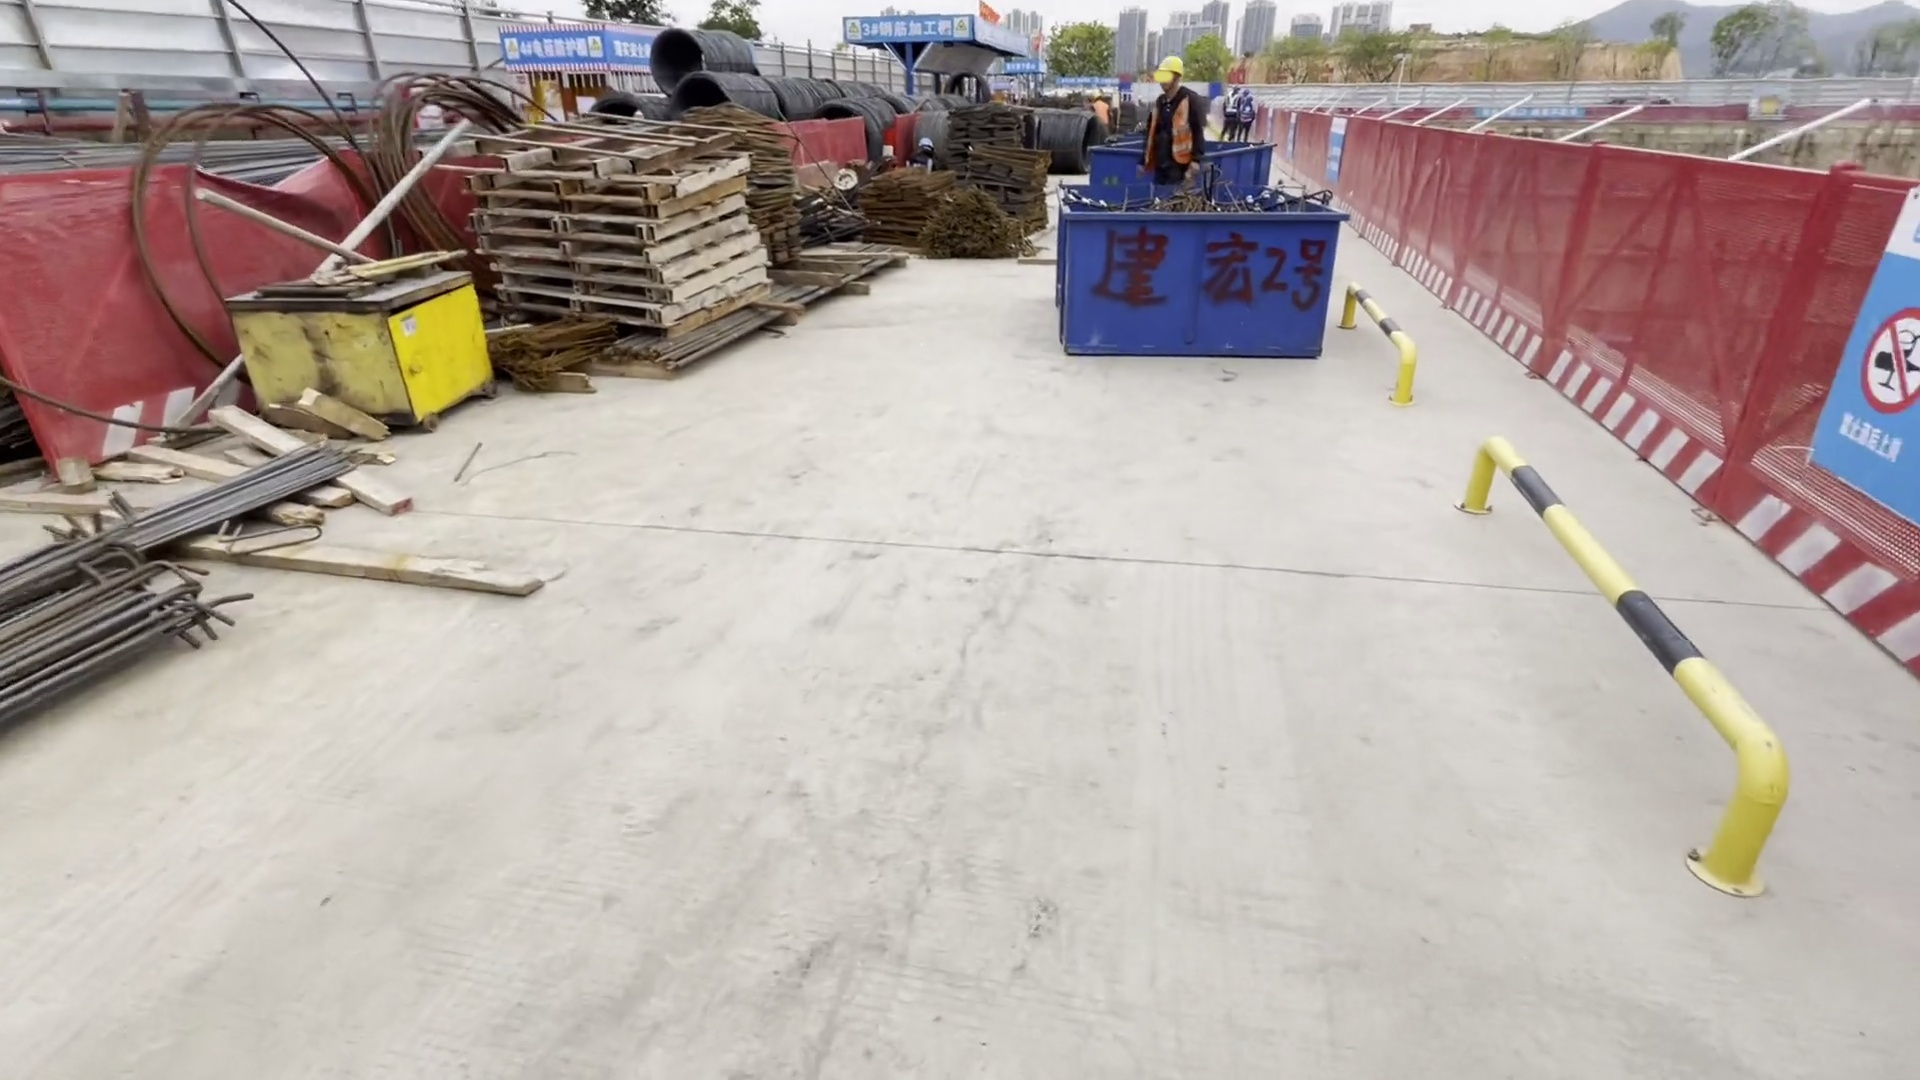fence: (1268, 100, 1920, 643)
helmet: (1159, 55, 1183, 77)
hopper: (1068, 184, 1333, 373)
person: (1145, 54, 1197, 192), (1221, 87, 1239, 143), (1238, 96, 1253, 142)
rebar: (1, 450, 335, 751)
slogan: (1835, 299, 1920, 467)
vest: (1147, 98, 1198, 173), (1224, 94, 1238, 118), (1239, 106, 1252, 128)
